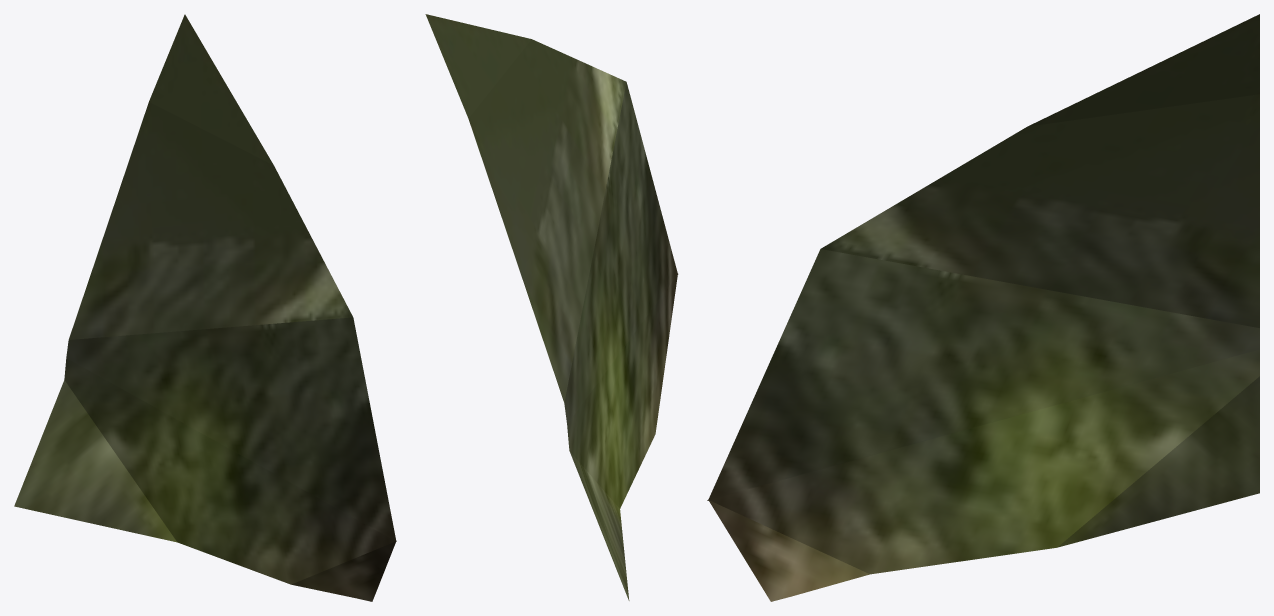
3 renders of one model, left to right at view 1: azimuth 30°, elevation 25°; view 2: azimuth 150°, elevation 25°; view 3: azimuth 270°, elevation 25°, orthographic. The views are drawn at different scales.
Size of the model in its own units: 0.5209 by 1.31 by 1.12.
Materials: 1 (1 with a texture image).
